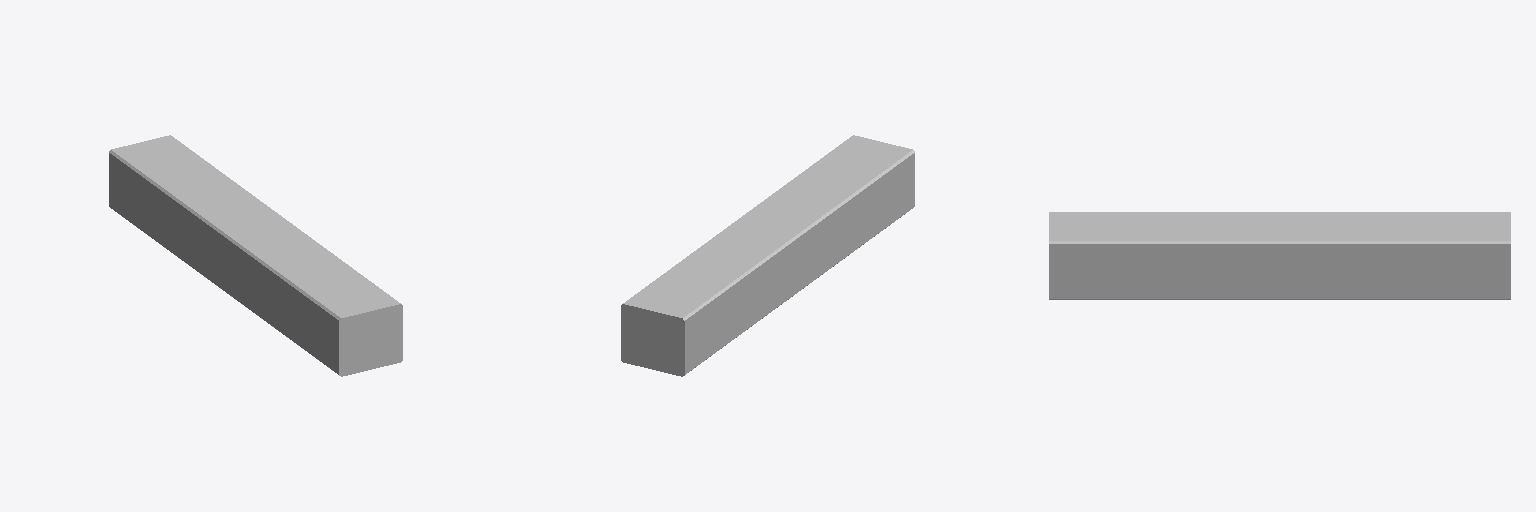
Rendered from factory_rectangular_peg_8mm_tight_subdiv_3x.obj.
3 renders of one model, left to right at view 1: azimuth 30°, elevation 25°; view 2: azimuth 150°, elevation 25°; view 3: azimuth 270°, elevation 25°, orthographic.
Visible parts, largest first — view 1: mesh2, mesh4, mesh5, mesh3; view 2: mesh2, mesh4, mesh6, mesh3; view 3: mesh0, mesh2, mesh1.
Part boxes in pixels (left/top/right/bottom): mesh2: left=111, top=135, right=400, bottom=317; mesh4: left=109, top=153, right=338, bottom=374; mesh5: left=339, top=304, right=402, bottom=376; mesh3: left=109, top=150, right=340, bottom=320; mesh2: left=623, top=135, right=912, bottom=317; mesh4: left=685, top=153, right=914, bottom=374; mesh6: left=621, top=304, right=684, bottom=376; mesh3: left=683, top=150, right=914, bottom=320; mesh0: left=1049, top=244, right=1510, bottom=298; mesh2: left=1049, top=212, right=1510, bottom=240; mesh1: left=1049, top=241, right=1510, bottom=243.
Bounding box in the file's own units: 0.008 × 0.007 × 0.05.